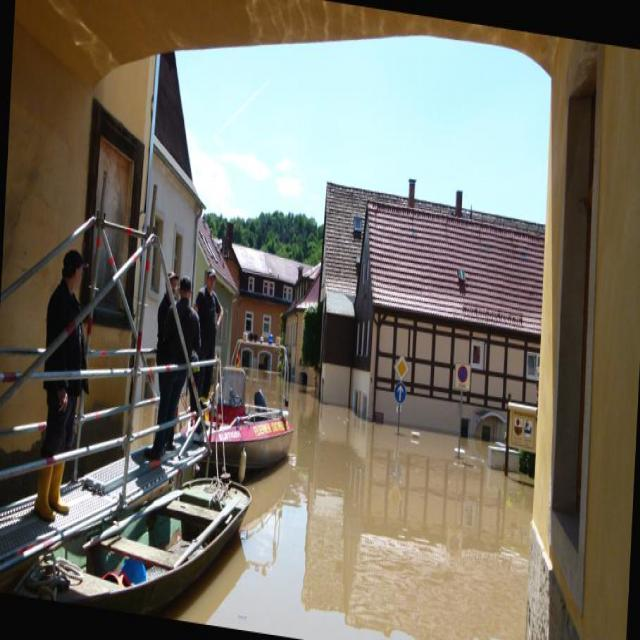flood: (216, 357, 537, 639)
